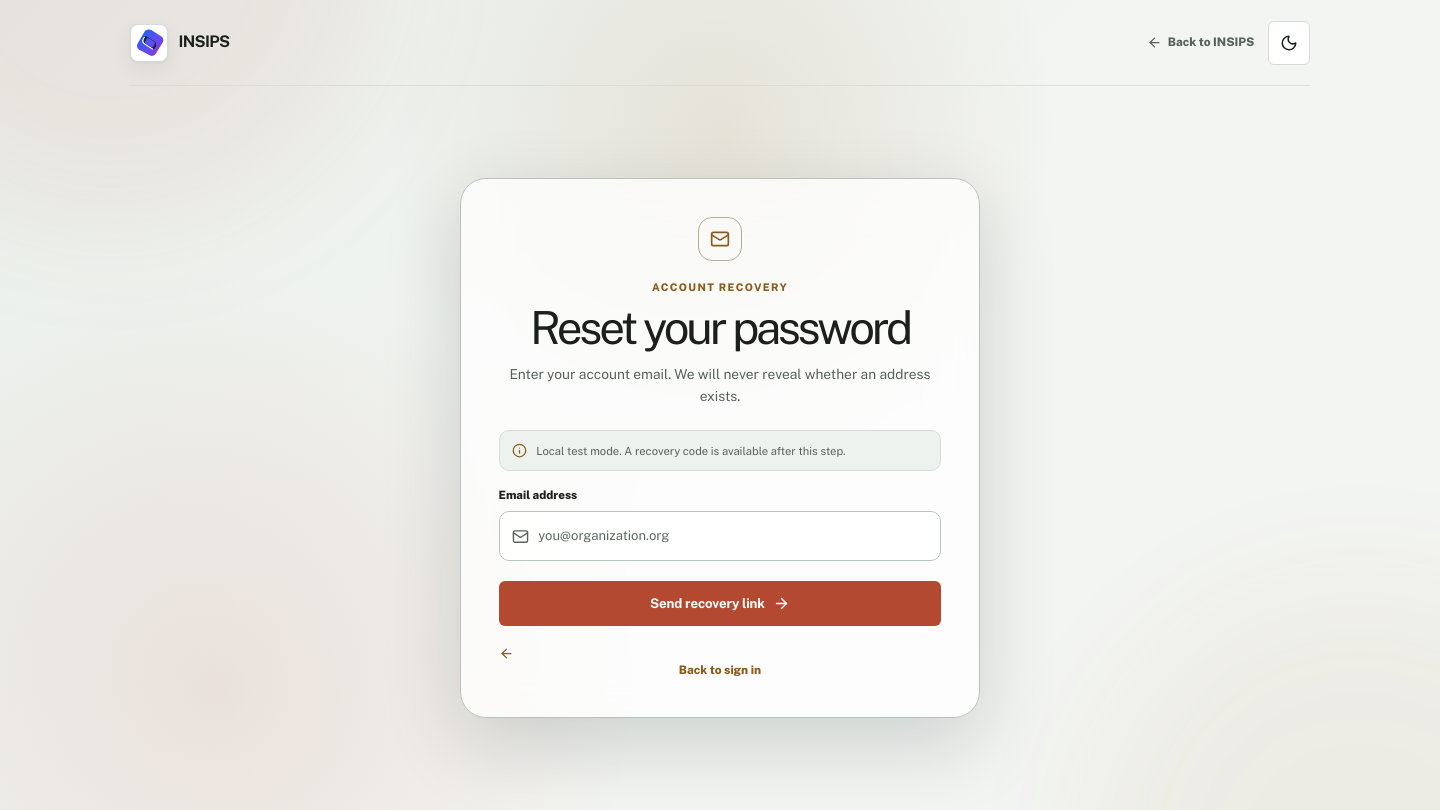
Scenario: RecoveryExperience › validates the email without revealing account existence
The image size is (1440, 810).
Click the button "Send recovery link".
click(720, 604)  # box x1=499 y1=581 x2=941 y2=626
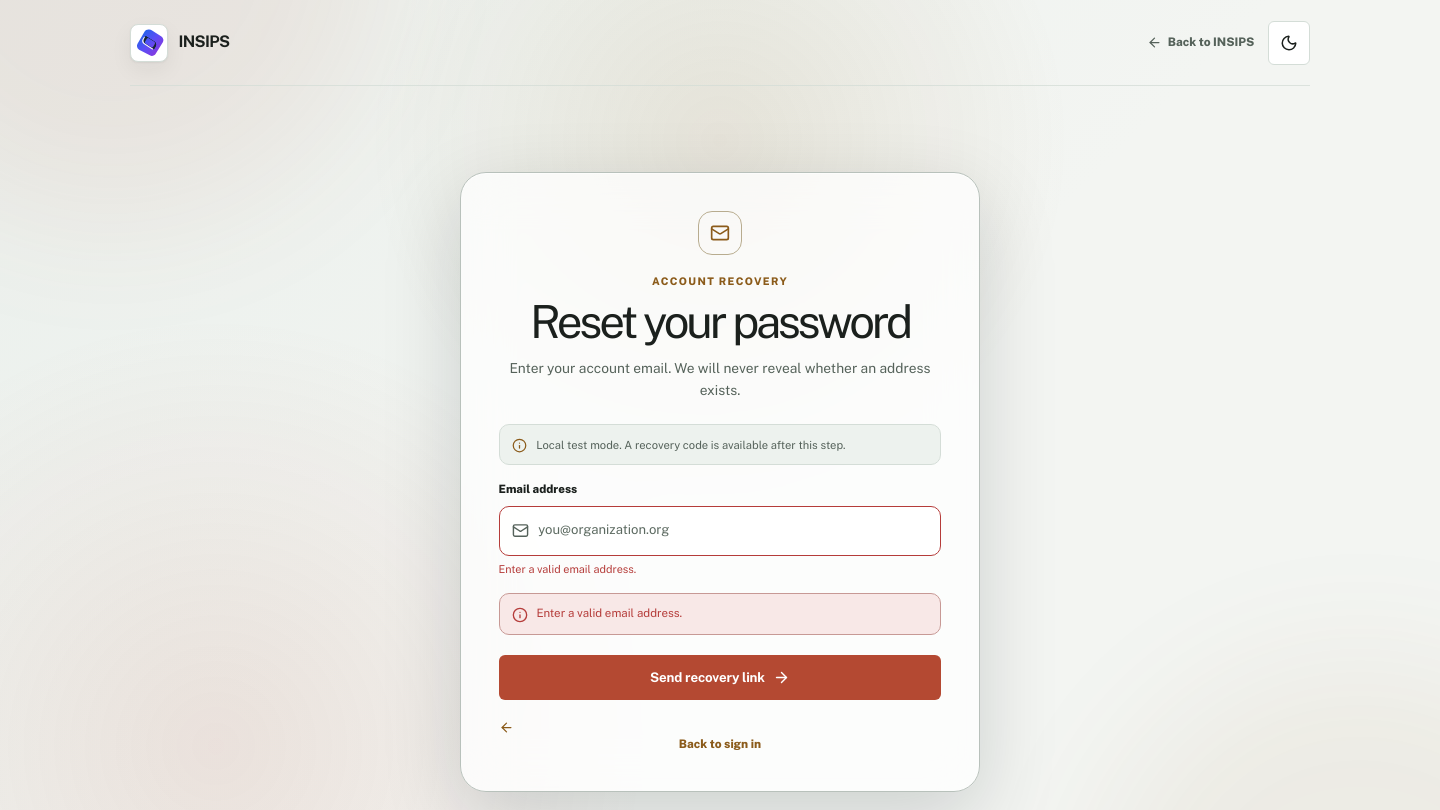
Check: the message reads "Enter a valid email address.", box x1=536 y1=606 x2=682 y2=620
